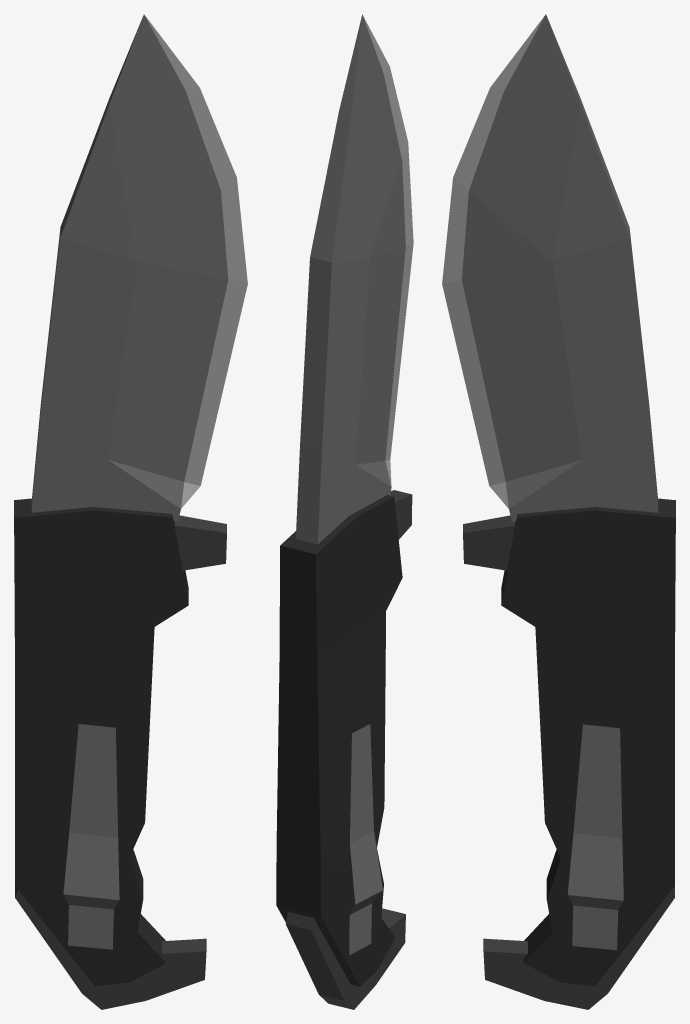
Rendered from KnifeAk47_ML.glb.
3 views of the same model, side by side, from view 1: azimuth 90°, elevation 25°; view 2: azimuth 150°, elevation 25°; view 3: azimuth 270°, elevation 25° (orthographic).
Parts seen in each view (by area): view 1: Ak47Knife; view 2: Ak47Knife; view 3: Ak47Knife.
Part boxes in pixels (box(x1,y1,x2,y2)): Ak47Knife: box(14, 14, 247, 1009); Ak47Knife: box(276, 14, 413, 1009); Ak47Knife: box(442, 14, 675, 1009).
Size of the model in its own units: 0.0331 by 0.472 by 0.1011.
1 material, 1 textured.
